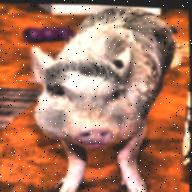boar: (20, 1, 183, 192)
